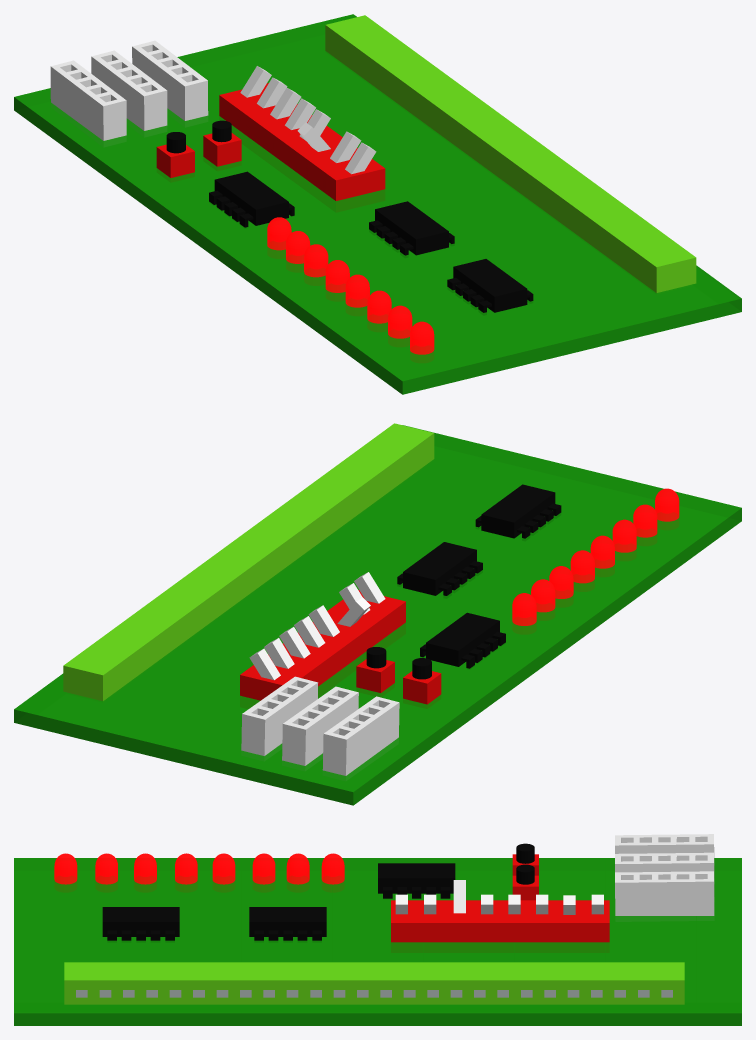
File: IOBoredV4.fbx
The picture shows the model from 3 angles, top to bottom: view 1: azimuth 30°, elevation 25°; view 2: azimuth 150°, elevation 25°; view 3: azimuth 270°, elevation 25°; orthographic projection. The views are drawn at different scales.
Parts seen in each view (by area): view 1: Board; view 2: Board; view 3: Board, Switch.002, Button.003, Button.
Boxes of the visible parts, x1,y1,x2,y2 form: Board: (14, 14, 741, 394); Board: (14, 423, 741, 805); Board: (14, 834, 741, 1025); Switch.002: (453, 880, 465, 913); Button.003: (516, 843, 534, 863); Button: (516, 864, 534, 884).
Bounding box in the file's own units: 328 × 55.96 × 650.
